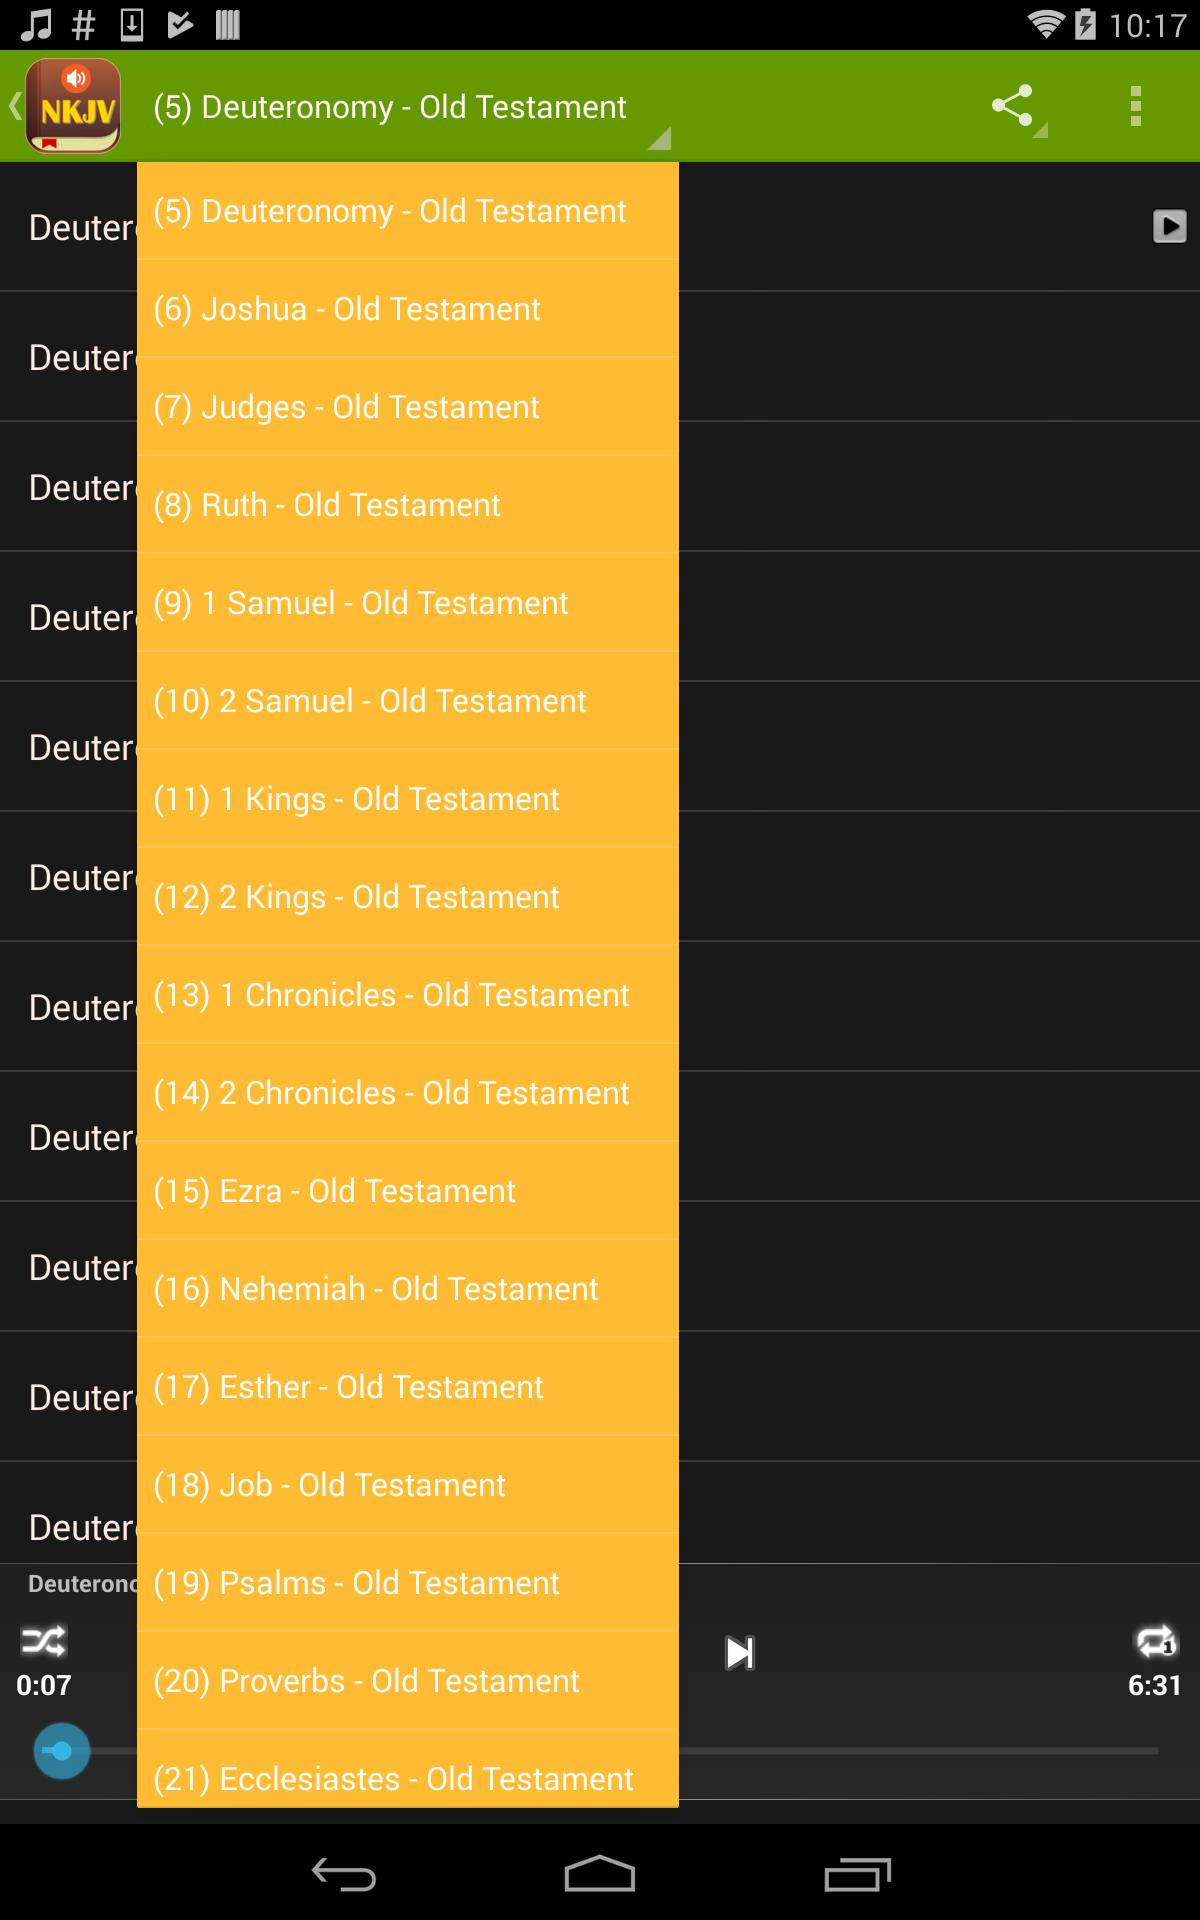android.widget.FrameLayout: (122, 147, 695, 1825)
android.widget.TextView: (137, 162, 679, 258), (137, 260, 679, 357), (137, 847, 679, 944), (137, 945, 679, 1042), (137, 1044, 679, 1140), (137, 1142, 679, 1239), (137, 1240, 679, 1337), (137, 358, 679, 453), (137, 456, 679, 552), (137, 554, 679, 650), (137, 652, 679, 748), (137, 751, 679, 846), (137, 1338, 679, 1433), (137, 1436, 679, 1532), (137, 1534, 679, 1630), (137, 1632, 679, 1728), (137, 1731, 679, 1826)
